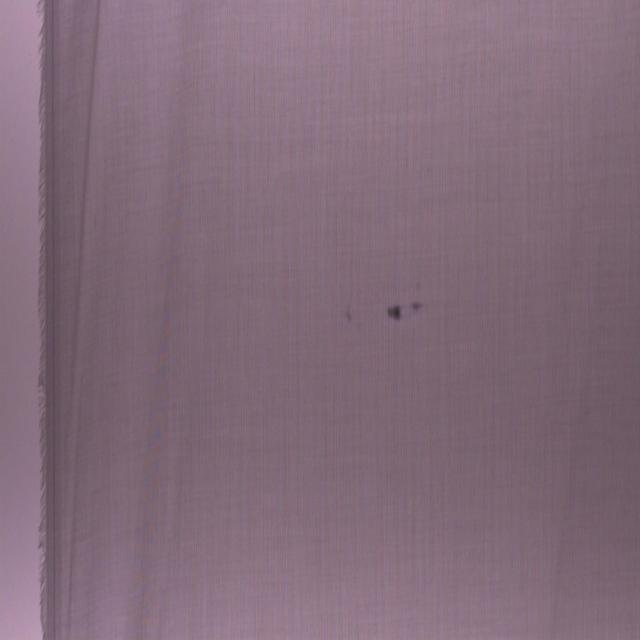dirty: (385, 298, 424, 323)
